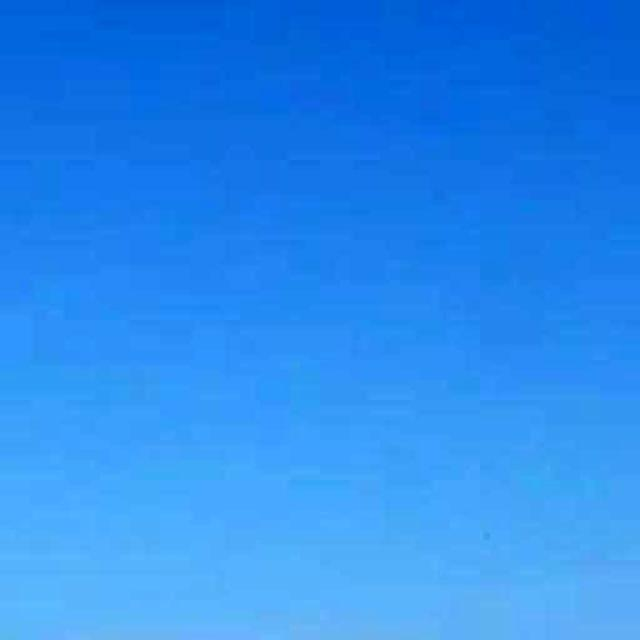drone: (449, 490, 525, 580)
